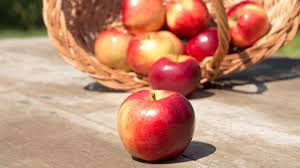apple: (116, 94, 200, 164), (144, 57, 201, 97), (223, 4, 276, 43), (128, 33, 181, 68), (185, 29, 234, 63), (163, 4, 214, 34), (93, 31, 132, 69), (122, 1, 165, 32)
